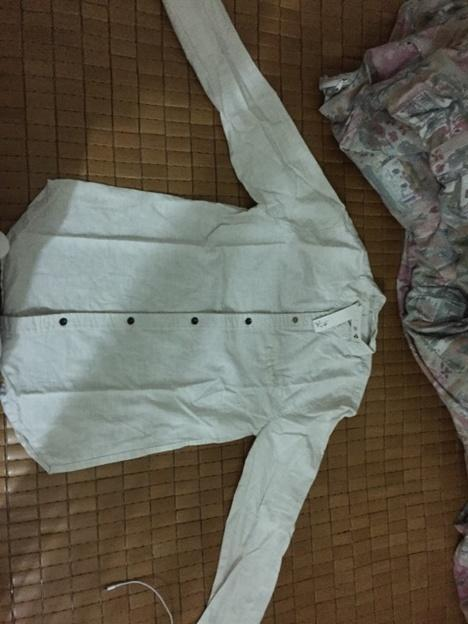C_shirt: (2, 1, 386, 624)
